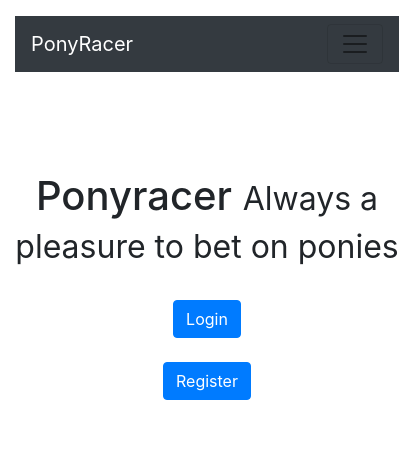
Test: Ponyracer › should display a navbar collapsed on small screen
The image size is (414, 457).
Expected: the link "PonyRacer" is shown, [31,24,133,64]
// toggle the navbar
Click the button with class "navbar-toggler" at (355, 44), box [327,24,383,64]
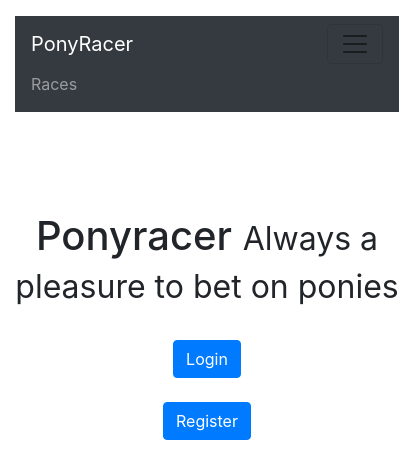
Result: the link with class "nav-link" is shown at [31,74,77,94]
